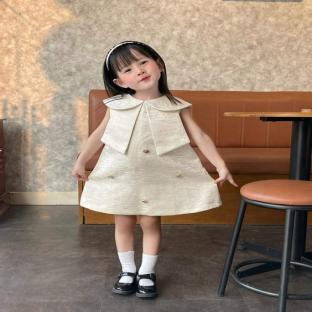Human: (72, 42, 237, 297)
